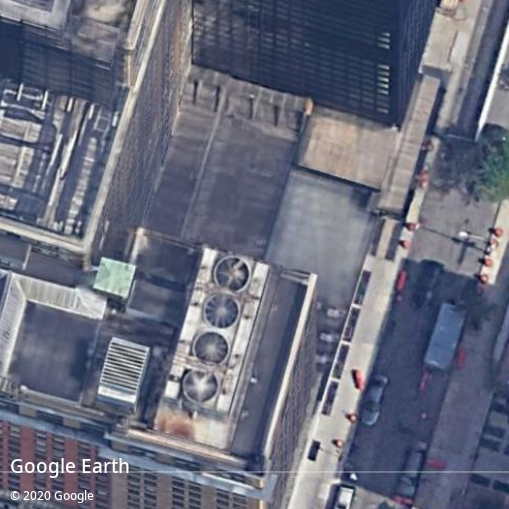Vent: (214, 257, 249, 292), (183, 369, 218, 403), (205, 294, 238, 328), (195, 331, 228, 365)
